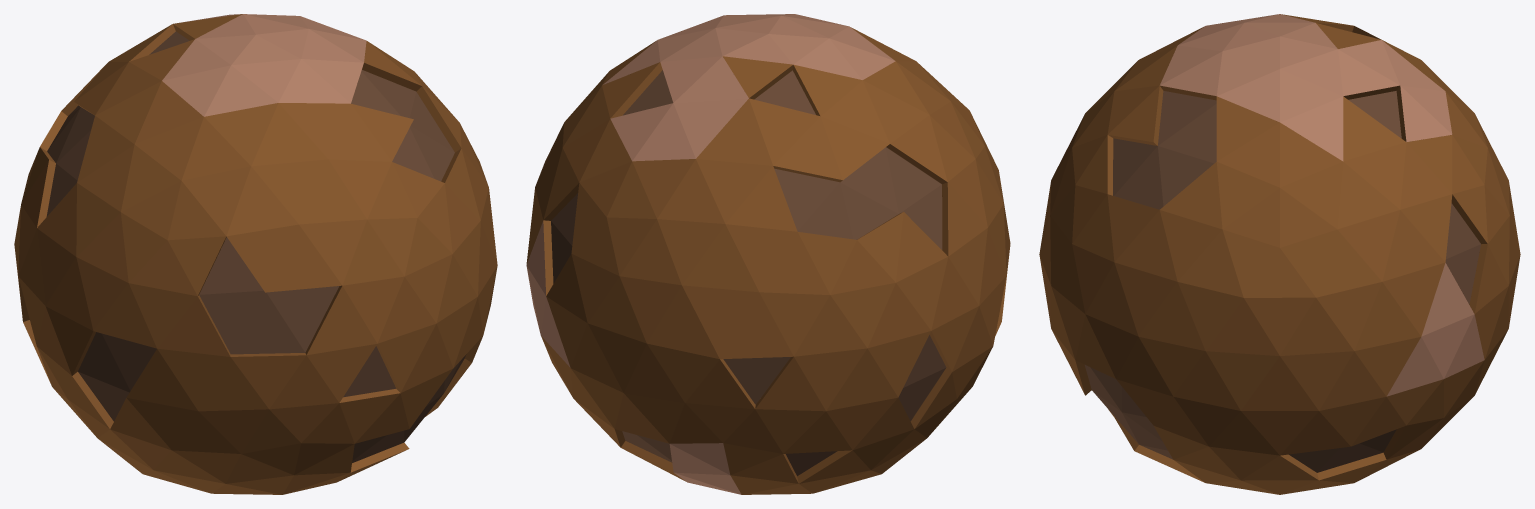
The model's file is ganymede.glb.
3 views of the same model, side by side, from view 1: azimuth 30°, elevation 25°; view 2: azimuth 150°, elevation 25°; view 3: azimuth 270°, elevation 25° (orthographic).
Visible parts, largest first — view 1: Icosphere; view 2: Icosphere; view 3: Icosphere.
Boxes of the visible parts, left/top/right/bottom form: Icosphere: left=14, top=14, right=497, bottom=494; Icosphere: left=526, top=14, right=1010, bottom=494; Icosphere: left=1039, top=14, right=1520, bottom=494.
Bounding box in the file's own units: 0.5268 × 0.5222 × 0.5268.
